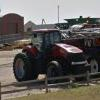Tractor: (14, 23, 90, 95)
